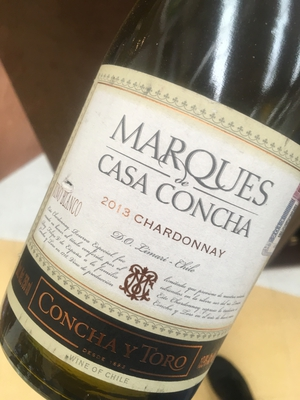marques de casa concha chardonnay: (16, 28, 296, 400)
